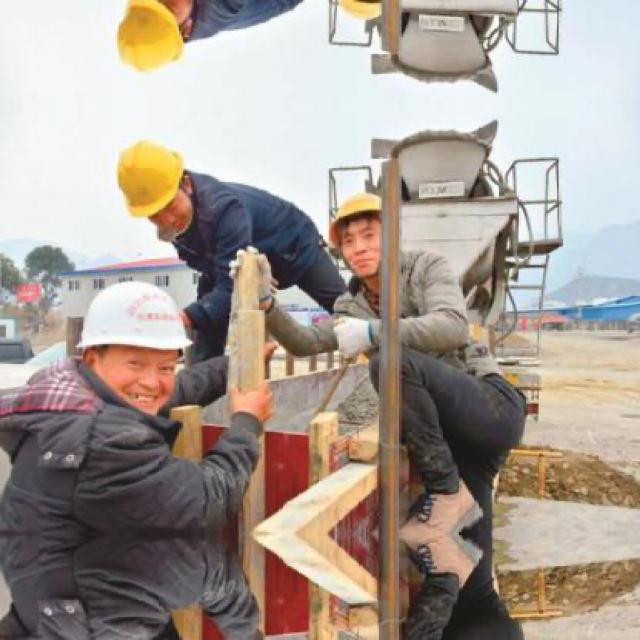helmet: (66, 270, 194, 409), (104, 131, 196, 242), (105, 0, 198, 83), (323, 184, 394, 278), (321, 0, 394, 31)
